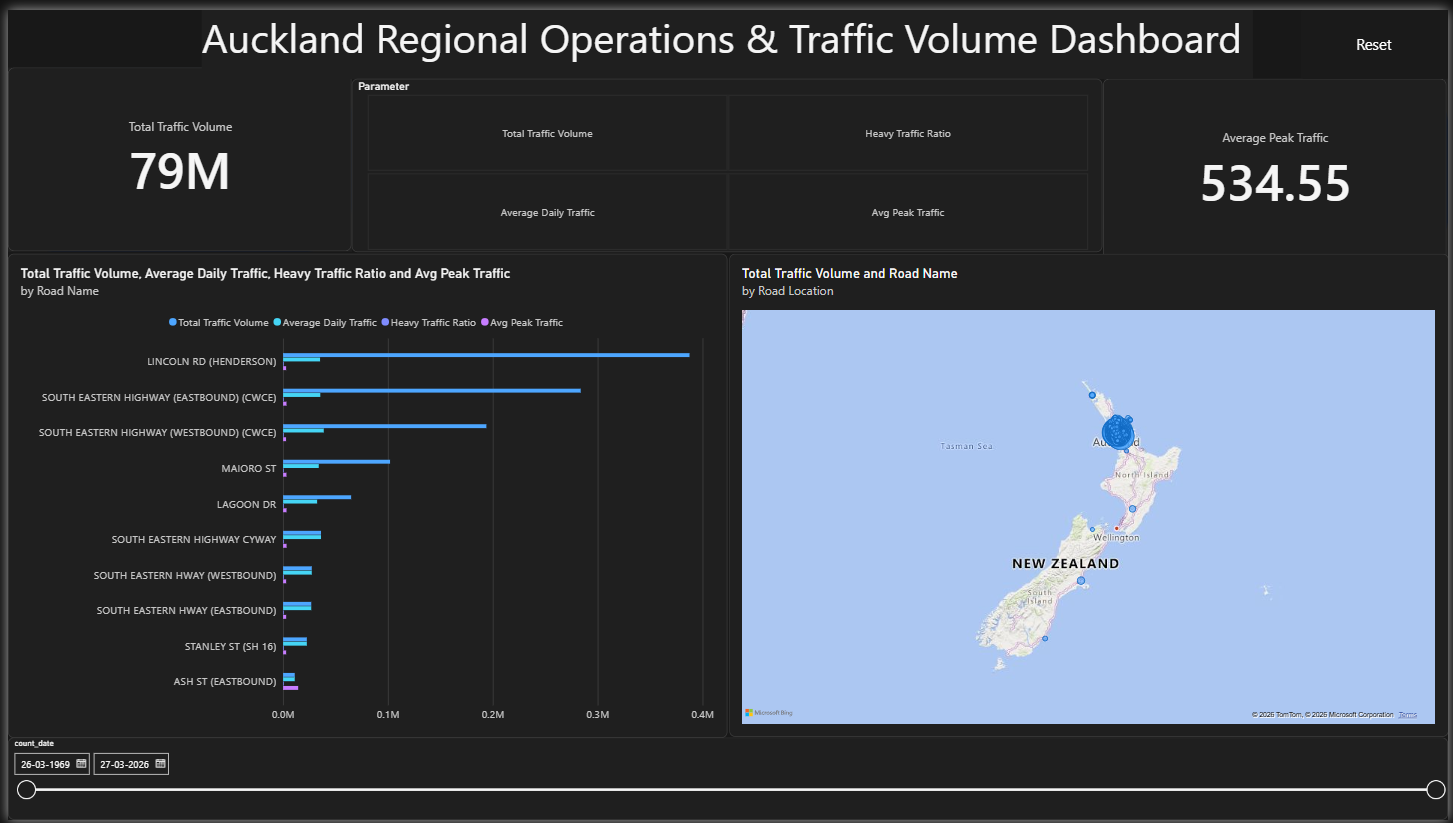

The page's visual inventory and layout, read from the dashboard file:
{"tool":"powerbi","page":{"name":"Regional Overview","canvas":[1920,1080],"ordinal":0},"visuals":[{"type":"shape","box":[1461.6,92.4,458.7,181.4],"z":0},{"type":"shape","box":[1.7,76.7,458.7,197.1],"z":1000},{"type":"cardVisual","fields":{"Data":["Average_Daily_Traffic_Counts.Total_Traffic_Volume"]},"box":[0,76.7,458.7,197.1],"z":2000},{"type":"cardVisual","fields":{"Data":["Average_Daily_Traffic_Counts.Avg_Peak_Traffic"]},"box":[1459.9,92.4,458.7,181.4],"z":3000},{"type":"clusteredBarChart","fields":{"Category":["Average_Daily_Traffic_Counts.road_name"],"Y":["Average_Daily_Traffic_Counts.Total Traffic Volume","Average_Daily_Traffic_Counts.Average Daily Traffic","Average_Daily_Traffic_Counts.Heavy_Traffic_Ratio","Average_Daily_Traffic_Counts.Avg_Peak_Traffic"]},"box":[0,273.8,959.3,678.5],"z":4000},{"type":"map","fields":{"Category":["Average_Daily_Traffic_Counts.Full_Location"],"Size":["Average_Daily_Traffic_Counts.Total_Traffic_Volume"]},"box":[961,273.8,959.3,678.5],"z":5000},{"type":"slicer","fields":{"Values":["Average_Daily_Traffic_Counts.count_date"]},"box":[0,978.5,1918.6,101.2],"z":6000},{"type":"textbox","box":[260,0,1401.4,92.4],"z":7000},{"type":"actionButton","box":[1691.7,0,228.3,91.7],"z":9000},{"type":"slicer","fields":{"Values":["Parameter.Parameter"]},"box":[458.7,92.4,1001.2,181.4],"z":9001}]}

Visuals, with their boxes in screenshot pixels (x1, y1, x2, y2), scaled from the page's 1920x1080 canvas onto the 1453x823 screenshot:
shape: [x1=1106, y1=70, x2=1452, y2=209]
shape: [x1=1, y1=58, x2=348, y2=209]
cardVisual - Average_Daily_Traffic_Counts.Total_Traffic_Volume: [x1=0, y1=58, x2=347, y2=209]
cardVisual - Average_Daily_Traffic_Counts.Avg_Peak_Traffic: [x1=1105, y1=70, x2=1452, y2=209]
clusteredBarChart - Average_Daily_Traffic_Counts.road_name x Average_Daily_Traffic_Counts.Total Traffic Volume: [x1=0, y1=209, x2=726, y2=726]
map - Average_Daily_Traffic_Counts.Full_Location x Average_Daily_Traffic_Counts.Total_Traffic_Volume: [x1=727, y1=209, x2=1452, y2=726]
slicer - Average_Daily_Traffic_Counts.count_date: [x1=0, y1=746, x2=1452, y2=822]
textbox: [x1=197, y1=0, x2=1257, y2=70]
actionButton: [x1=1280, y1=0, x2=1452, y2=70]
slicer - Parameter.Parameter: [x1=347, y1=70, x2=1105, y2=209]
